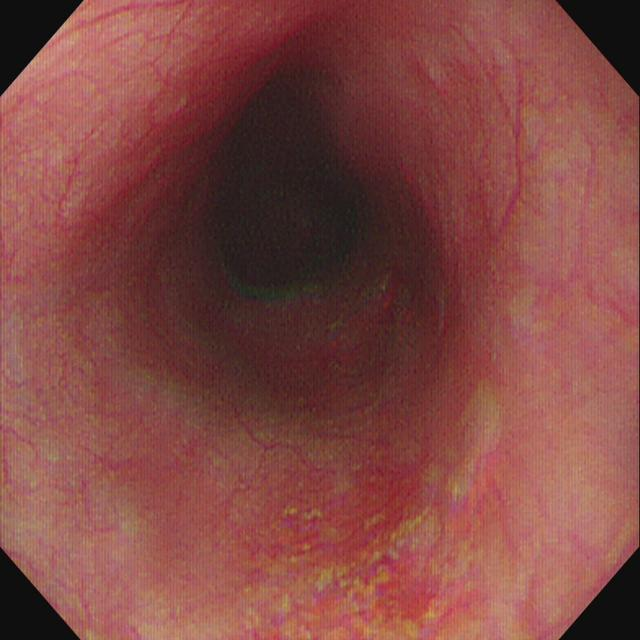E: (216, 107, 364, 288)
